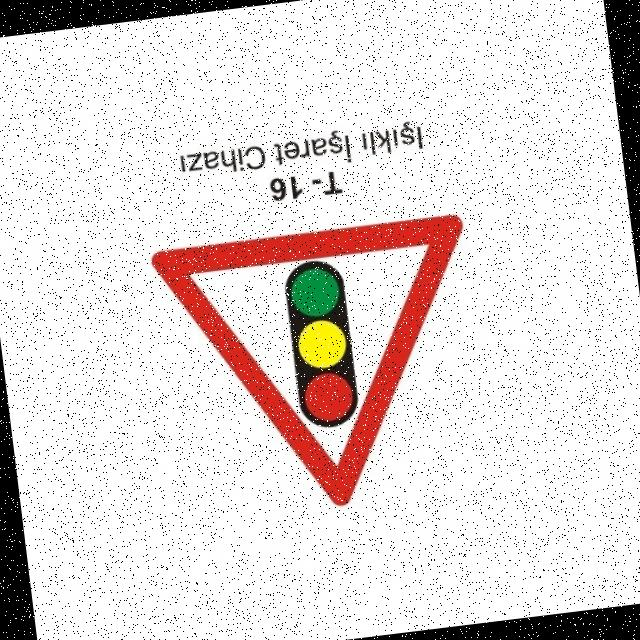light_traffic: (148, 208, 498, 529)
